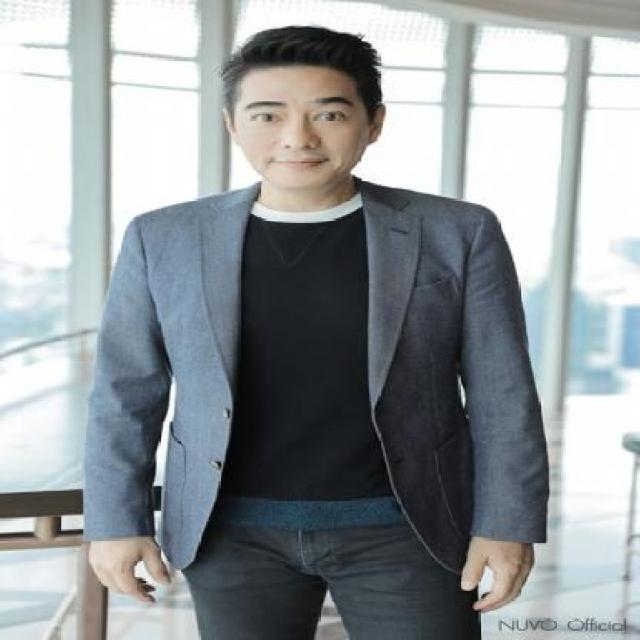sem_oculos: (219, 96, 392, 138)
